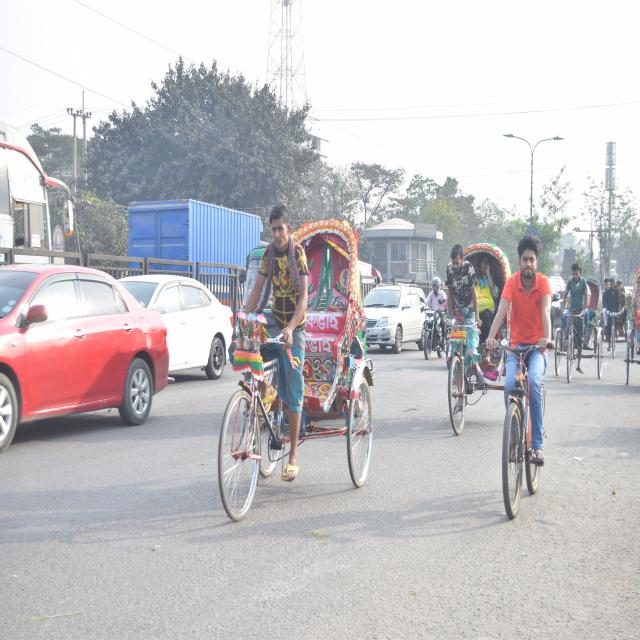car: (1, 247, 169, 443), (126, 271, 233, 374), (362, 278, 423, 358)
motorbike: (417, 305, 445, 362)
pickup-van: (128, 193, 272, 307)
